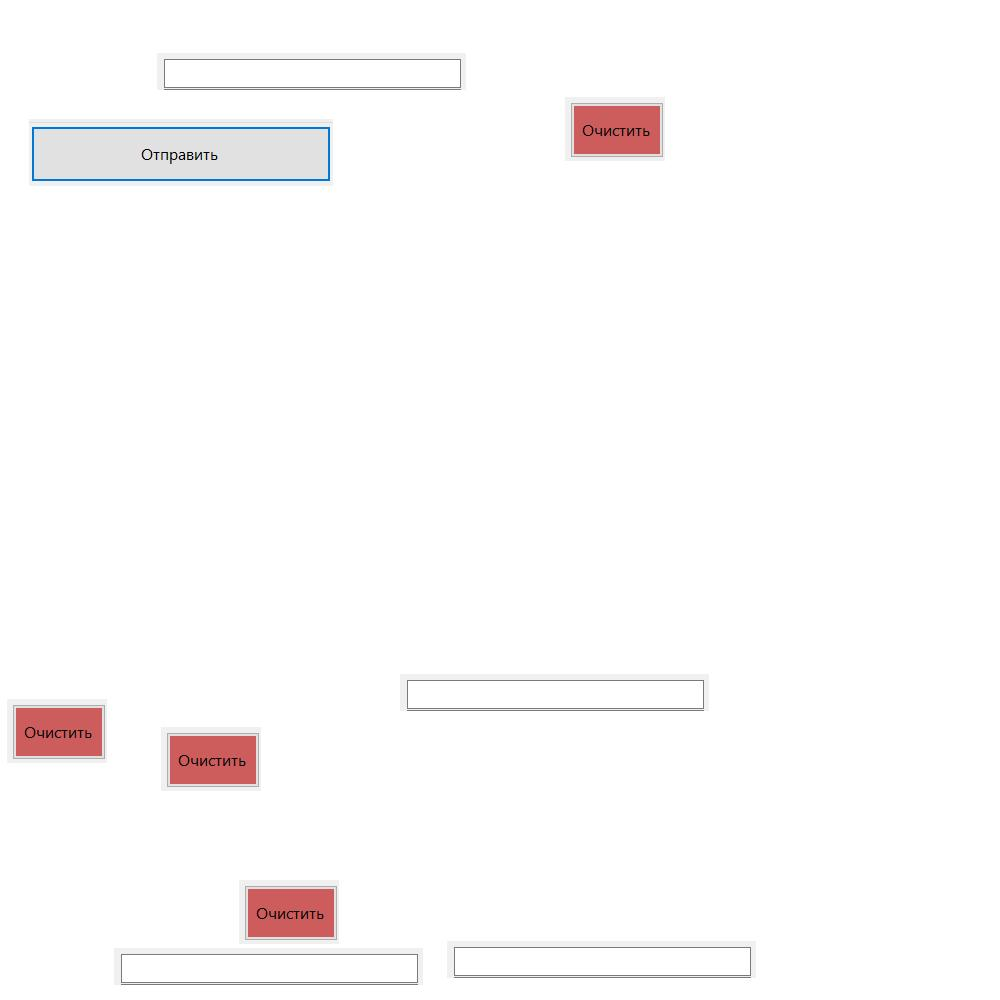Button: (29, 119, 333, 186), (565, 97, 665, 161), (7, 699, 107, 763), (161, 727, 261, 791), (239, 880, 339, 944)
EditText-: (447, 941, 756, 978), (114, 948, 423, 985), (157, 53, 466, 90), (400, 674, 709, 711)
